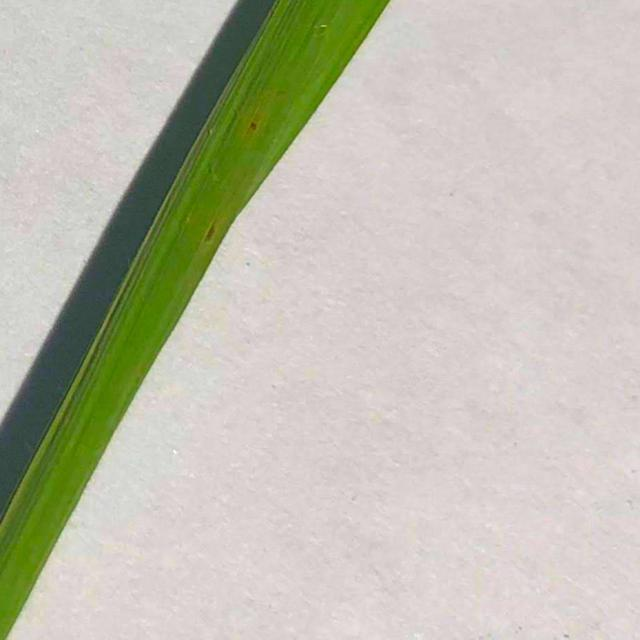brownspots: (192, 215, 225, 249), (242, 113, 270, 139)
